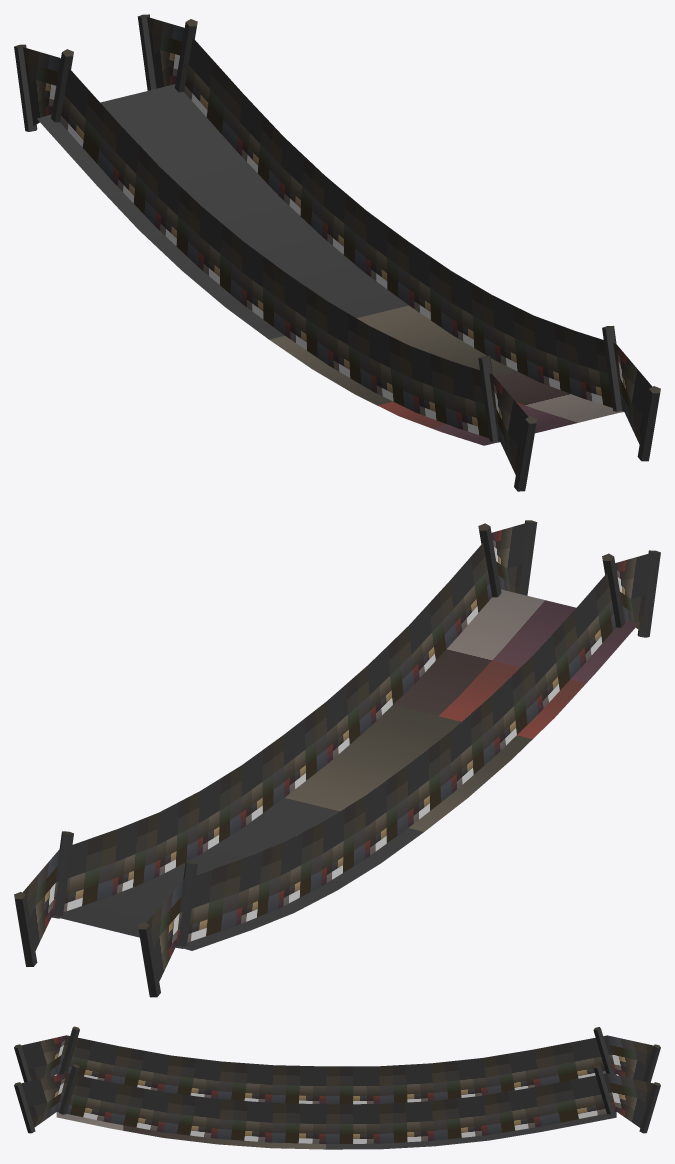
Rendered from Cave_8_Bridge_Physic.fbx.
3 renders of one model, top to bottom at view 1: azimuth 30°, elevation 25°; view 2: azimuth 150°, elevation 25°; view 3: azimuth 270°, elevation 25°, orthographic. The views are drawn at different scales.
Parts seen in each view (by area): view 1: polySurface422; view 2: polySurface422; view 3: polySurface422.
Boxes of the visible parts, <box> form: polySurface422: <box>14,14,660,491</box>; polySurface422: <box>14,520,660,997</box>; polySurface422: <box>14,1026,660,1149</box>.
Size of the model in its own units: 4.2 by 3.19 by 23.77.
